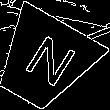N_SW: (13, 30, 75, 93)
